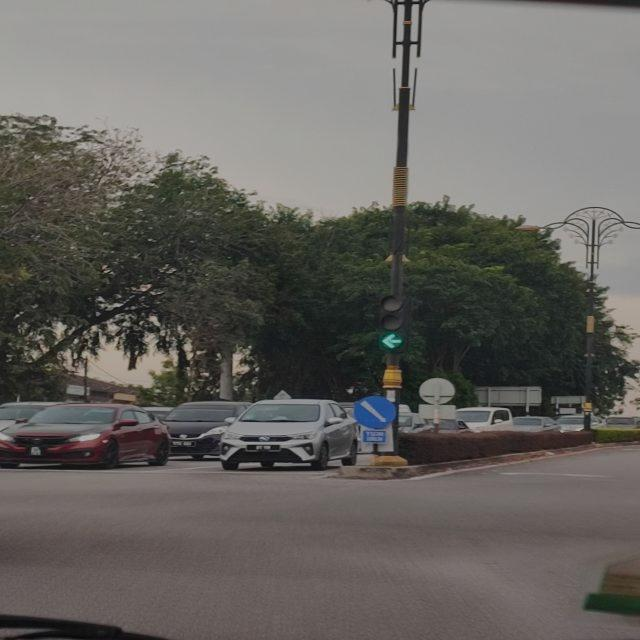Green: (378, 294, 405, 350)
